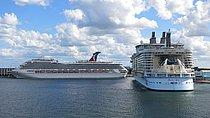Ship: (127, 28, 202, 97), (7, 49, 133, 83)
